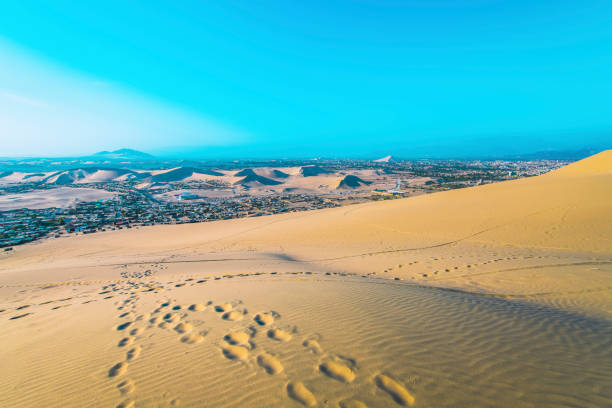human_footprint: (144, 298, 339, 397), (107, 295, 149, 396), (149, 299, 211, 343), (374, 374, 414, 405), (318, 360, 355, 382), (286, 381, 316, 406), (214, 301, 247, 321), (257, 352, 283, 374), (223, 331, 251, 347), (221, 345, 248, 361), (254, 311, 279, 325), (302, 336, 322, 353), (267, 328, 292, 341), (108, 361, 128, 377), (180, 331, 206, 343), (117, 378, 135, 394), (174, 322, 194, 334), (222, 310, 245, 320), (163, 312, 182, 324), (126, 345, 141, 360), (339, 399, 367, 407), (214, 303, 233, 312), (188, 303, 206, 312), (9, 312, 31, 319), (118, 336, 133, 346), (116, 321, 132, 330), (117, 399, 134, 407), (130, 327, 144, 336), (149, 316, 162, 325)
